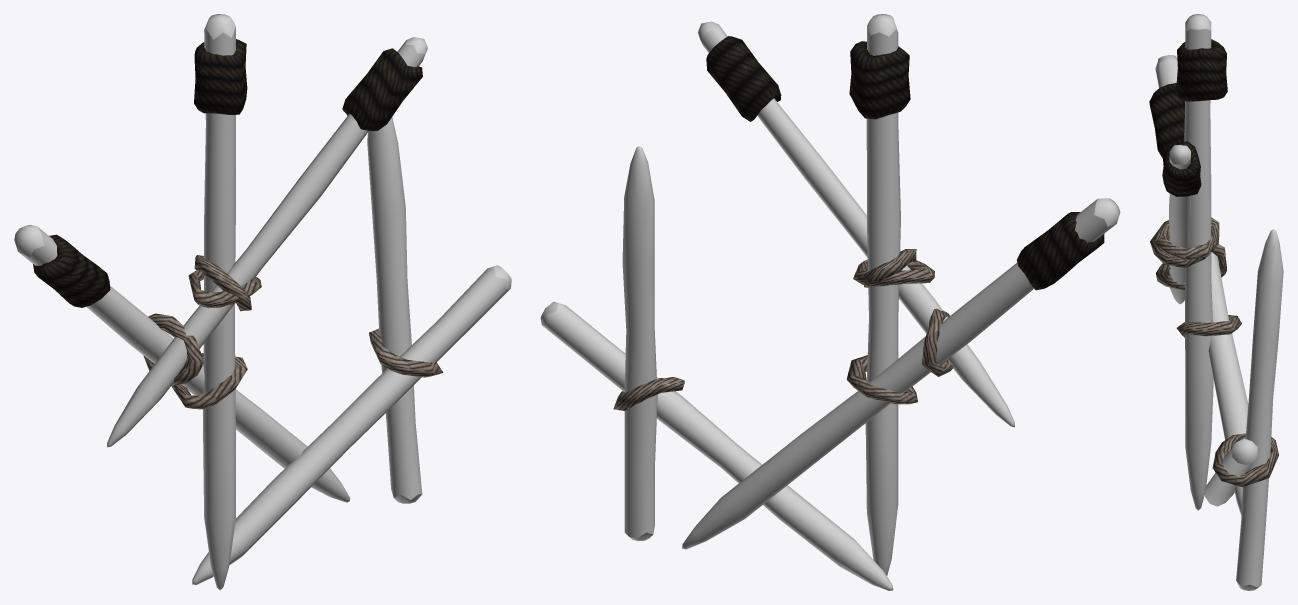
File: TorchFence_A.FBX
3 views of the same model, side by side, from view 1: azimuth 30°, elevation 25°; view 2: azimuth 150°, elevation 25°; view 3: azimuth 270°, elevation 25° (orthographic). The views are drawn at different scales.
Parts seen in each view (by area): view 1: TorchFence_A; view 2: TorchFence_A; view 3: TorchFence_A.
Part boxes in pixels (x1=…): TorchFence_A: x1=14, y1=14, x2=511, y2=590; TorchFence_A: x1=540, y1=14, x2=1120, y2=590; TorchFence_A: x1=1149, y1=14, x2=1283, y2=590.
Bounding box in the file's own units: 213 × 218 × 53.5.
